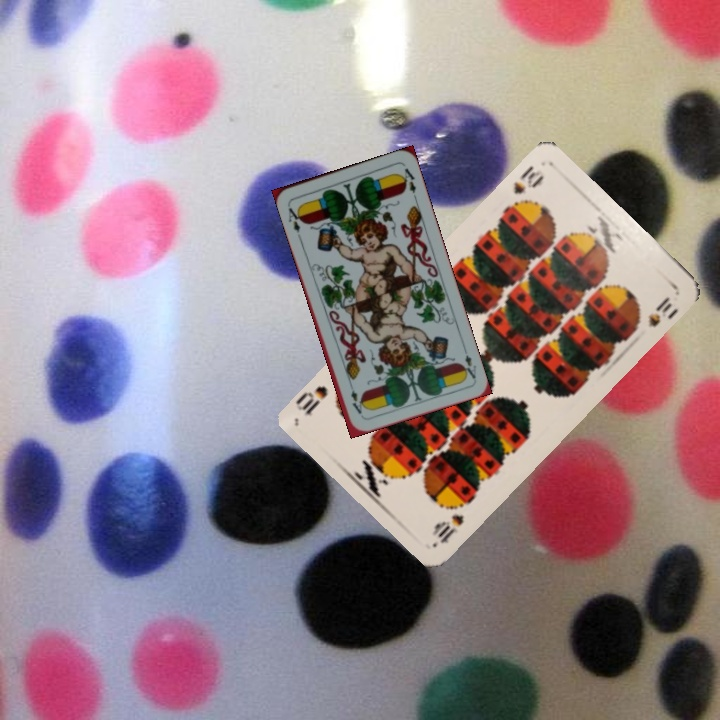EA: (284, 200, 306, 240), (457, 351, 479, 381)
S10: (503, 161, 547, 212), (429, 510, 467, 547)
